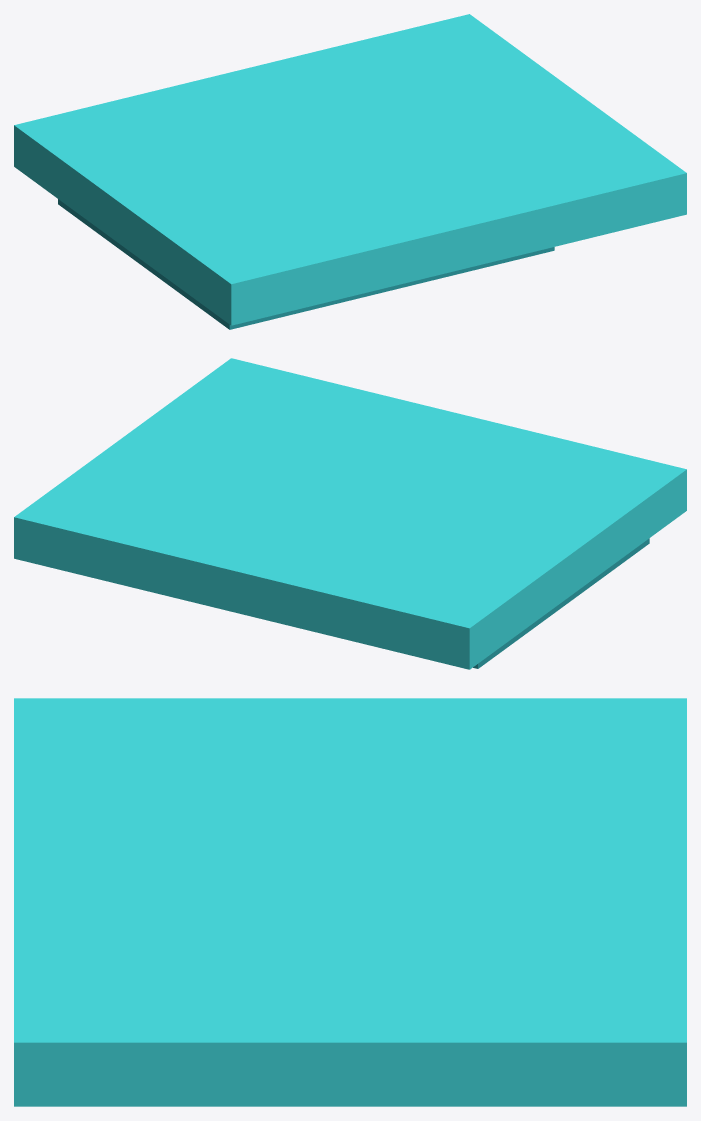
The model's file is service-access-panel.glb.
The picture shows the model from 3 angles, top to bottom: view 1: azimuth 30°, elevation 25°; view 2: azimuth 150°, elevation 25°; view 3: azimuth 270°, elevation 25°; orthographic projection. The views are drawn at different scales.
Visible parts, largest first — view 1: world; view 2: world; view 3: world.
Part boxes in pixels (box(x1,y1,x2,y2)): world: box(14, 14, 686, 329); world: box(14, 358, 686, 669); world: box(14, 698, 686, 1106).
Size of the model in its own units: 1.15 by 0.19 by 0.95.
